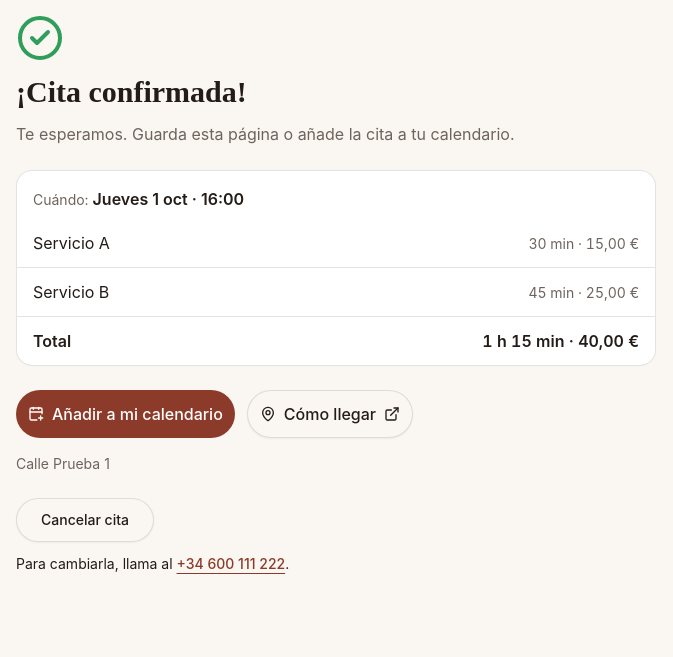
it: Confirmación de la cita › cancelar pide confirmación y deja la cita cancelada
Click the button "Cancelar cita": (85, 520) [16, 498, 154, 542]
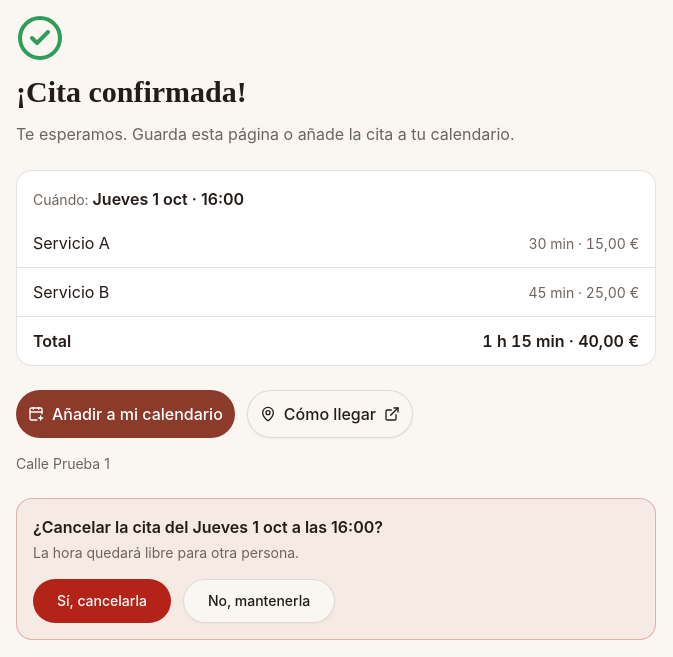
Note: "No" vuelve atrás sin llamar al backend
Click the button "No, mantenerla": (259, 601) [183, 579, 335, 623]
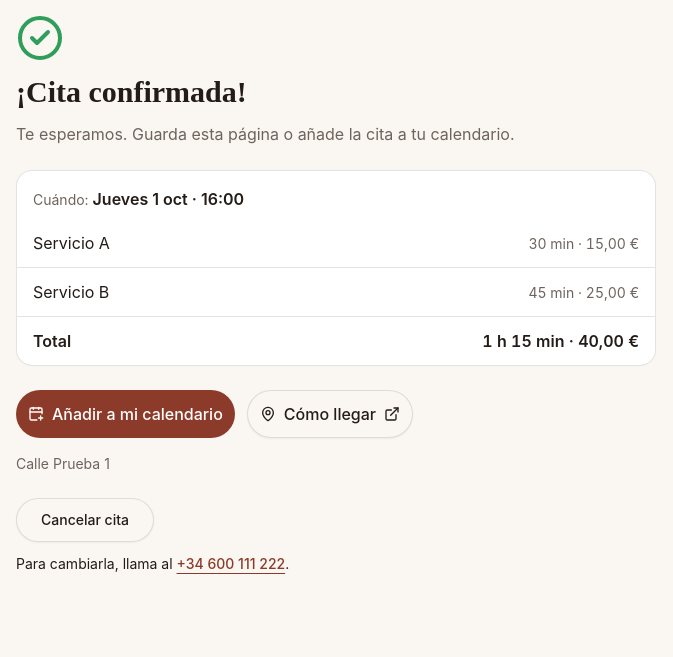
Click the button "Cancelar cita": (85, 520) [16, 498, 154, 542]
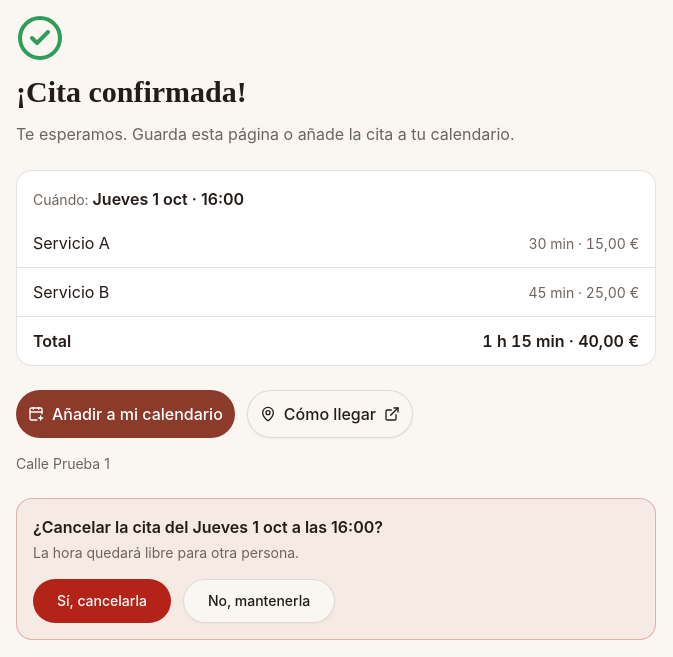
Click the button "Sí, cancelarla": (102, 601) [33, 579, 171, 623]
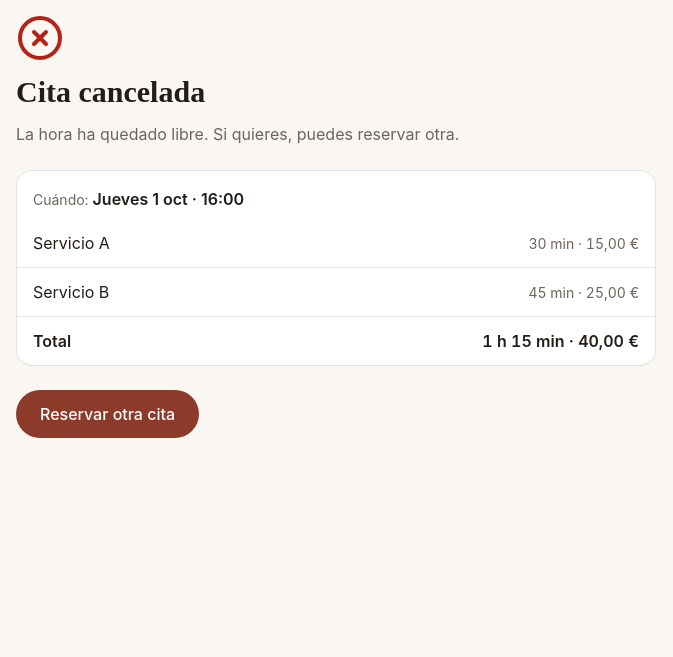
Now the heading "Cita cancelada" is shown, box [16, 74, 205, 110]
Now the link "Añadir a mi calendario" is gone
